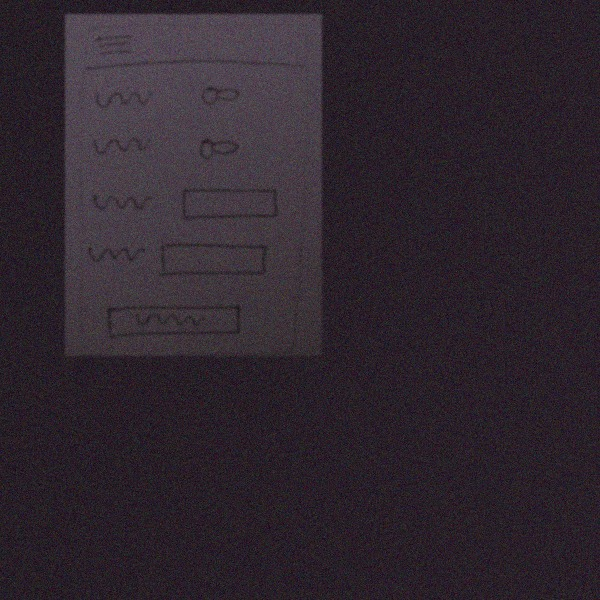switch: (189, 79, 249, 112), (192, 131, 246, 165)
text: (91, 130, 152, 160), (91, 84, 164, 109), (91, 188, 155, 216), (85, 239, 146, 266)
text_input: (156, 239, 271, 281), (176, 184, 282, 222)
